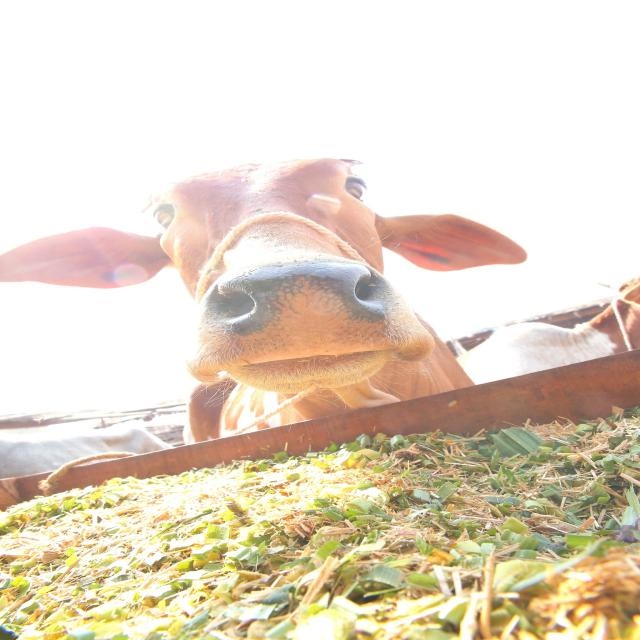muzzles: (205, 258, 407, 369)
